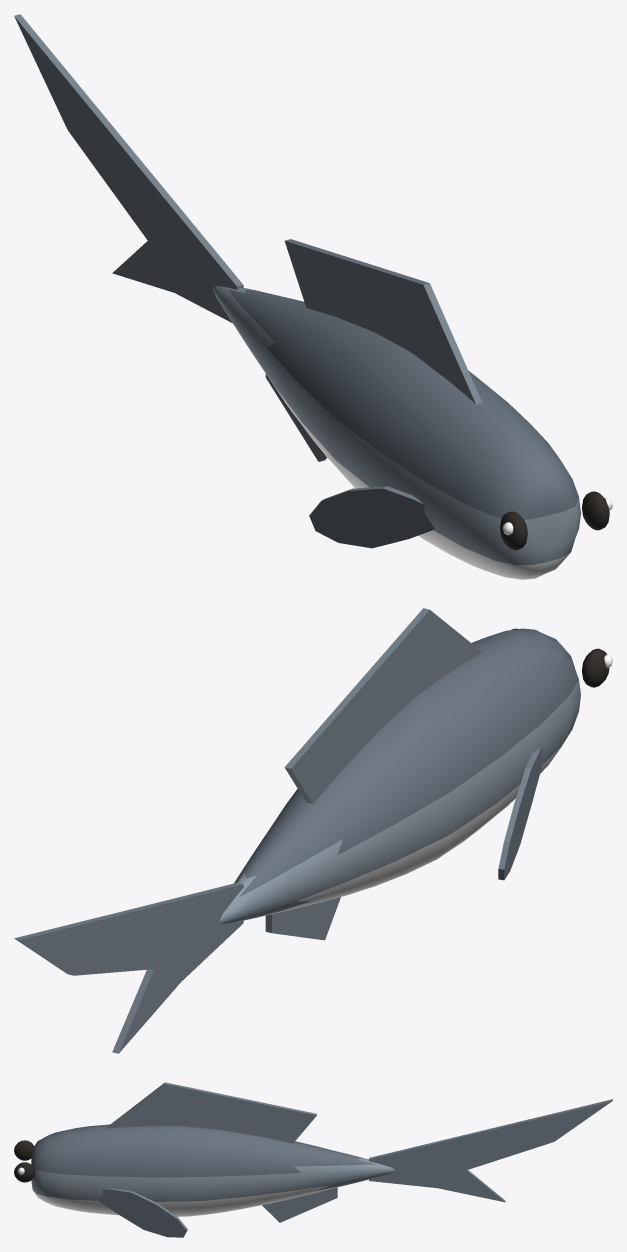
The model's file is fish-hammerhead.glb.
The picture shows the model from 3 angles, top to bottom: view 1: azimuth 30°, elevation 25°; view 2: azimuth 150°, elevation 25°; view 3: azimuth 270°, elevation 25°; orthographic projection. The views are drawn at different scales.
Visible parts, largest first — view 1: fish; view 2: fish; view 3: fish.
Part boxes in pixels (left/top/right/bottom): fish: left=14, top=14, right=612, bottom=579; fish: left=14, top=608, right=612, bottom=1053; fish: left=14, top=1082, right=612, bottom=1237.
Bounding box in the file's own units: 0.1796 × 0.2234 × 0.8727.
